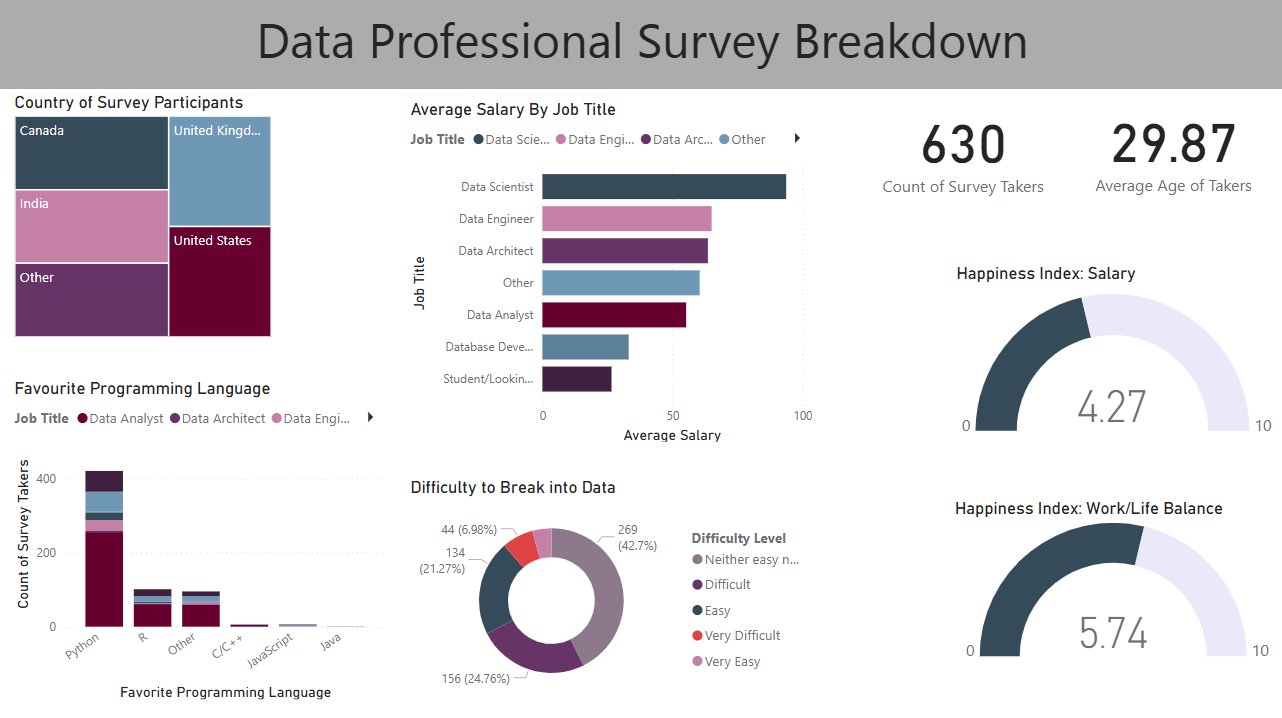

The page's visual inventory and layout, read from the dashboard file:
{"tool":"powerbi","page":{"name":"Page 1","canvas":[1280,720],"ordinal":0},"visuals":[{"type":"textbox","box":[10,0,280,280],"z":0},{"type":"textbox","box":[0,0,1281.4,88.4],"z":1000},{"type":"card","fields":{"Values":["CountNonNull(Data Professional Survey.Unique ID)"]},"box":[853.2,90.4,213.7,110.1],"z":2000},{"type":"card","fields":{"Values":["Avg(Data Professional Survey.Q10 - Current Age)"]},"box":[1057,90.4,223.6,108.5],"z":3000},{"type":"barChart","title":"Average Salary By Job Title","fields":{"Category":["Data Professional Survey.Q1 - Which Title Best Fits your Current Role?.1"],"Y":["Avg(Data Professional Survey.Average Salary)"],"Series":["Data Professional Survey.Q1 - Which Title Best Fits your Current Role?.1"]},"box":[405,99.2,409.9,346.5],"z":4000},{"type":"columnChart","title":"Favourite Programming Language","fields":{"Category":["Data Professional Survey.Q5 - Favorite Programming Language.1"],"Y":["CountNonNull(Data Professional Survey.Unique ID)"],"Series":["Data Professional Survey.Q1 - Which Title Best Fits your Current Role?.1"]},"box":[9.8,375.7,379,325.3],"z":5000},{"type":"treemap","title":"Country of Survey Participants","fields":{"Group":["Data Professional Survey.Q11 - Which Country do you live in?.1"],"Values":["Count(Data Professional Survey.Q11 - Which Country do you live in?.1)"]},"box":[10.3,90.5,265.3,248.9],"z":6000},{"type":"gauge","title":"Happiness Index: Work/Life Balance","fields":{"Y":["Avg(Data Professional Survey.Q6 - How Happy are you in your Current Position with the following? (Work/Life Balance))"],"MinValue":["Min(Data Professional Survey.Q6 - How Happy are you in your Current Position with the following? (Work/Life Balance))1"],"MaxValue":["Max(Data Professional Survey.Q6 - How Happy are you in your Current Position with the following? (Work/Life Balance))2"]},"box":[947.5,495.3,333,167.3],"z":7000},{"type":"gauge","title":"Happiness Index: Salary","fields":{"Y":["Avg(Data Professional Survey.Q6 - How Happy are you in your Current Position with the following? (Salary))"],"MinValue":["Min(Data Professional Survey.Q6 - How Happy are you in your Current Position with the following? (Salary))1"],"MaxValue":["Max(Data Professional Survey.Q6 - How Happy are you in your Current Position with the following? (Salary))2"]},"box":[948.3,261.9,328.6,183.8],"z":8000},{"type":"donutChart","title":"Difficulty to Break into Data","fields":{"Category":["Data Professional Survey.Q7 - How difficult was it for you to break into Data?"],"Y":["CountNonNull(Data Professional Survey.Q7 - How difficult was it for you to break into Data?)"]},"box":[405,475,409.9,226.1],"z":9000}]}

Visuals, with their boxes in screenshot pixels (x1, y1, x2, y2), scaled from the page's 1280x720 canvas onto the 1282x718 screenshot:
textbox: x1=10 y1=0 x2=290 y2=279
textbox: x1=0 y1=0 x2=1281 y2=88
card - CountNonNull(Data Professional Survey.Unique ID): x1=855 y1=90 x2=1069 y2=200
card - Avg(Data Professional Survey.Q10 - Current Age): x1=1059 y1=90 x2=1281 y2=198
"Average Salary By Job Title" barChart: x1=406 y1=99 x2=816 y2=444
"Favourite Programming Language" columnChart: x1=10 y1=375 x2=389 y2=699
"Country of Survey Participants" treemap: x1=10 y1=90 x2=276 y2=338
"Happiness Index: Work/Life Balance" gauge: x1=949 y1=494 x2=1281 y2=661
"Happiness Index: Salary" gauge: x1=950 y1=261 x2=1279 y2=444
"Difficulty to Break into Data" donutChart: x1=406 y1=474 x2=816 y2=699
